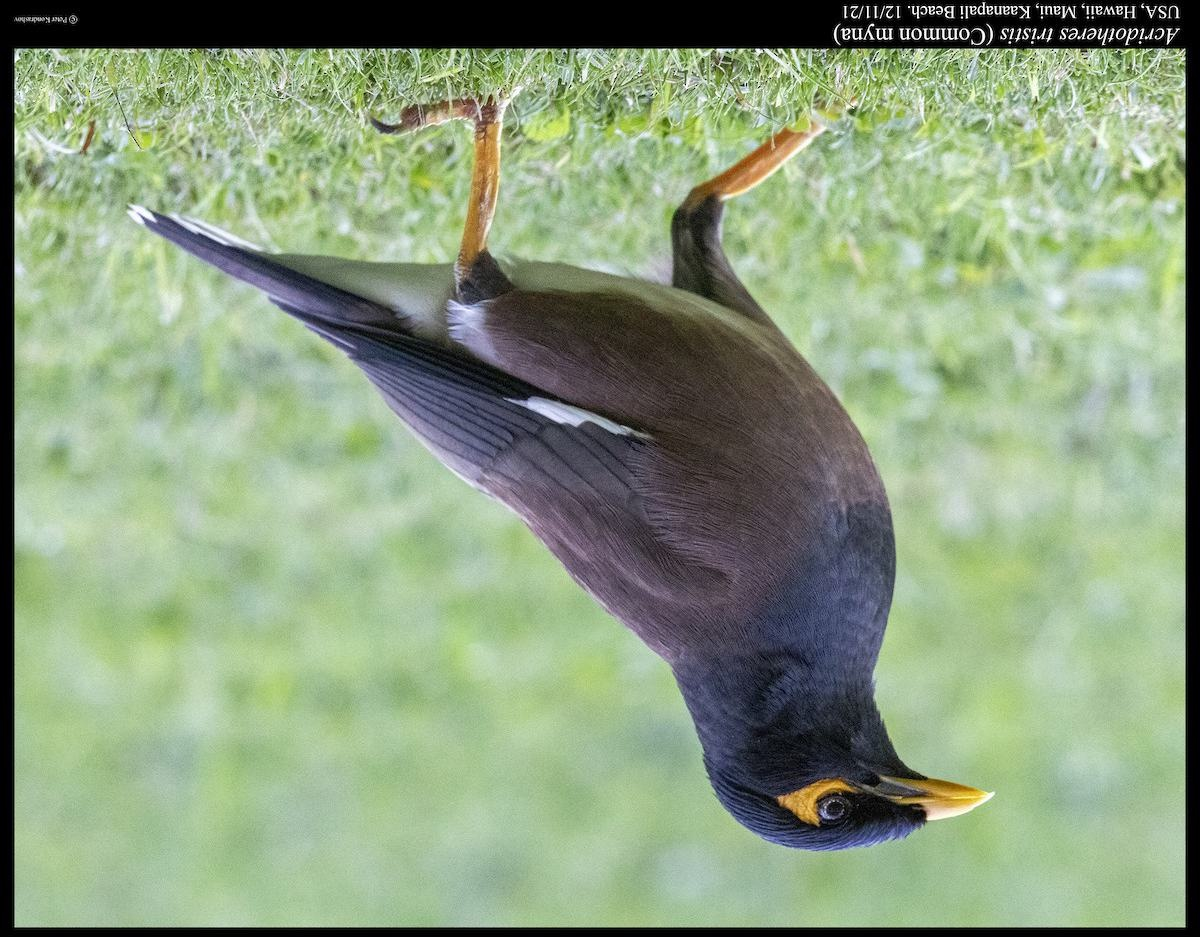myna: (298, 86, 999, 858)
